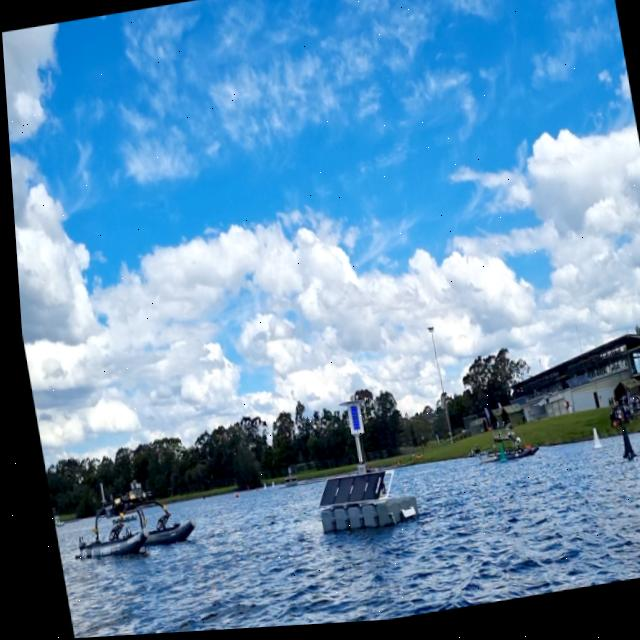led: (342, 408, 356, 436)
